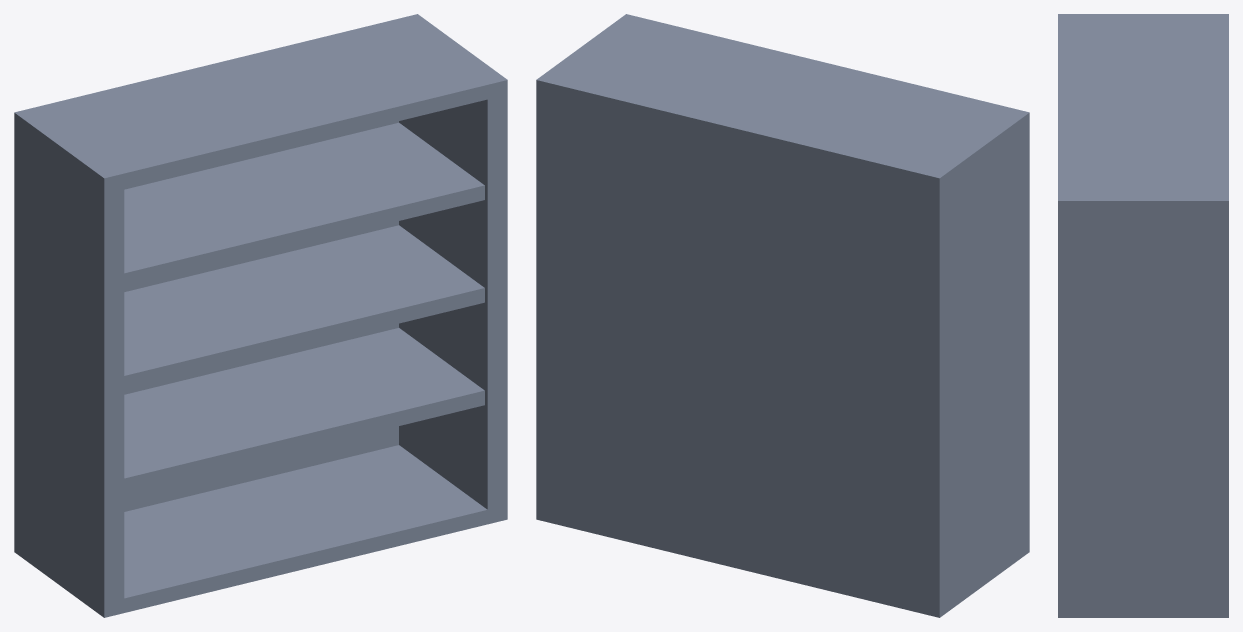
The model's file is shelf-cupboard-low-poly.fbx.
3 views of the same model, side by side, from view 1: azimuth 30°, elevation 25°; view 2: azimuth 150°, elevation 25°; view 3: azimuth 270°, elevation 25° (orthographic). The views are drawn at different scales.
Visible parts, largest first — view 1: shelves; view 2: shelves; view 3: shelves.
Part boxes in pixels (bbox=[...]): shelves: bbox=[14, 14, 507, 617]; shelves: bbox=[536, 14, 1029, 617]; shelves: bbox=[1058, 14, 1228, 617].
Bounding box in the file's own units: 0.8023 × 0.8352 × 0.3102.
